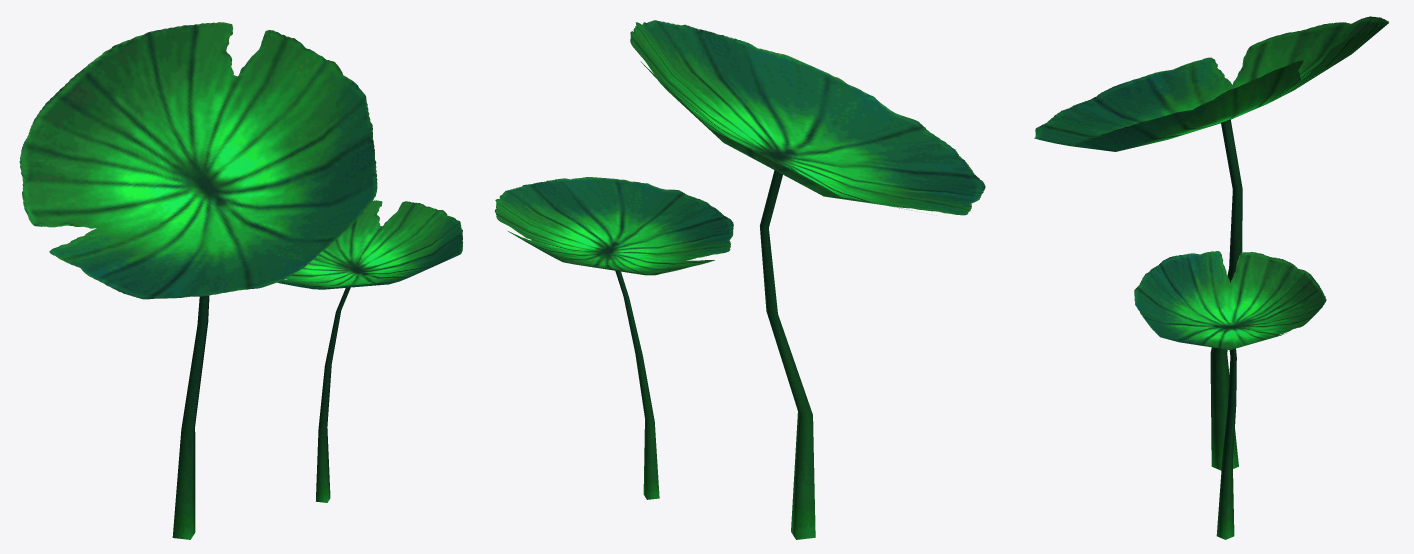
The model's file is cj_tree7.fbx.
3 views of the same model, side by side, from view 1: azimuth 30°, elevation 25°; view 2: azimuth 150°, elevation 25°; view 3: azimuth 270°, elevation 25° (orthographic). The views are drawn at different scales.
Visible parts, largest first — view 1: cj_tree1, cj_tree3; view 2: cj_tree1, cj_tree3; view 3: cj_tree1, cj_tree3.
Part boxes in pixels (x1,y1,x2,y2): cj_tree1: (19,22,377,539); cj_tree3: (277,200,462,502); cj_tree1: (630,20,985,539); cj_tree3: (494,177,733,499); cj_tree1: (1034,16,1388,470); cj_tree3: (1134,251,1326,539).
Bounding box in the file's own units: 6245 × 6383 × 4605.
